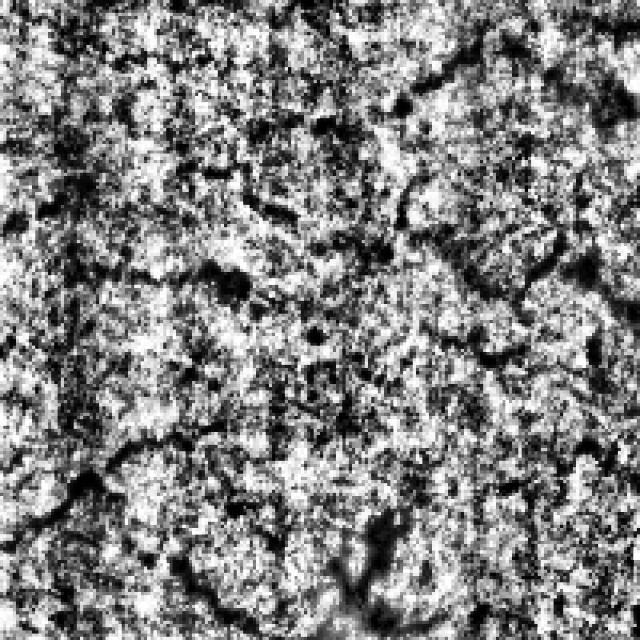Pitted_Surface: (7, 16, 614, 320), (0, 412, 438, 633)
